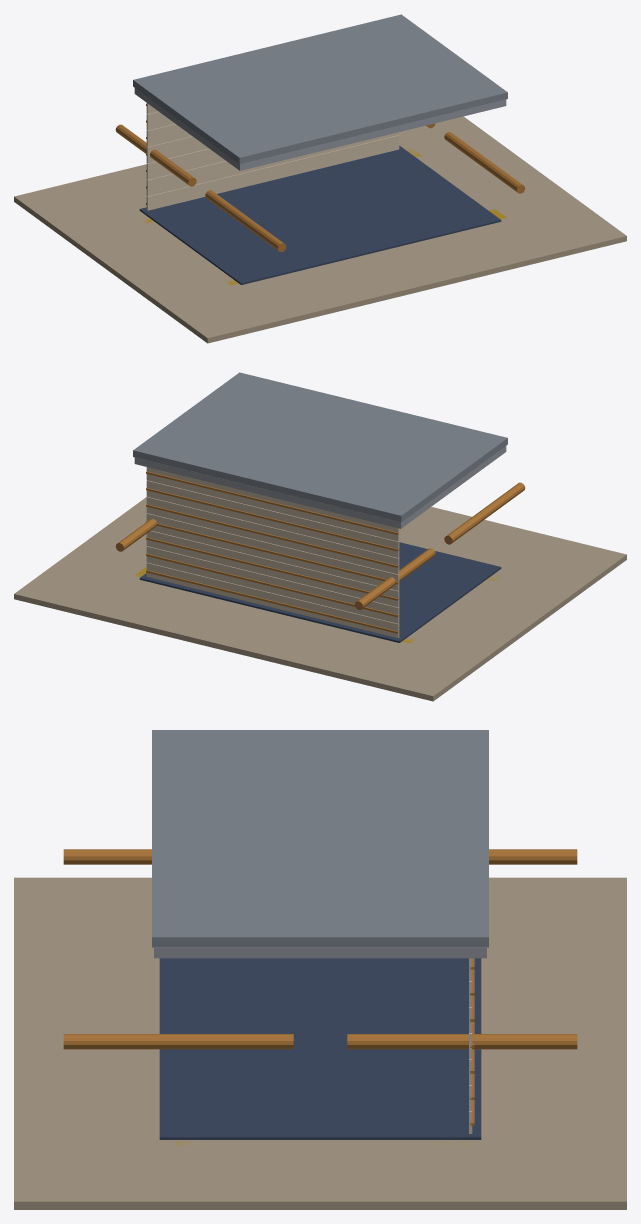
File: stage_05_bands.glb
3 renders of one model, top to bottom at view 1: azimuth 30°, elevation 25°; view 2: azimuth 150°, elevation 25°; view 3: azimuth 270°, elevation 25°, orthographic. The views are drawn at different scales.
Visible parts, largest first — view 1: world; view 2: world; view 3: world.
Boxes of the visible parts, x1,y1,x2,y2 form: world: [14, 14, 626, 343]; world: [14, 372, 626, 701]; world: [14, 730, 626, 1209].
Size of the model in its own units: 10 by 3.76 by 8.
